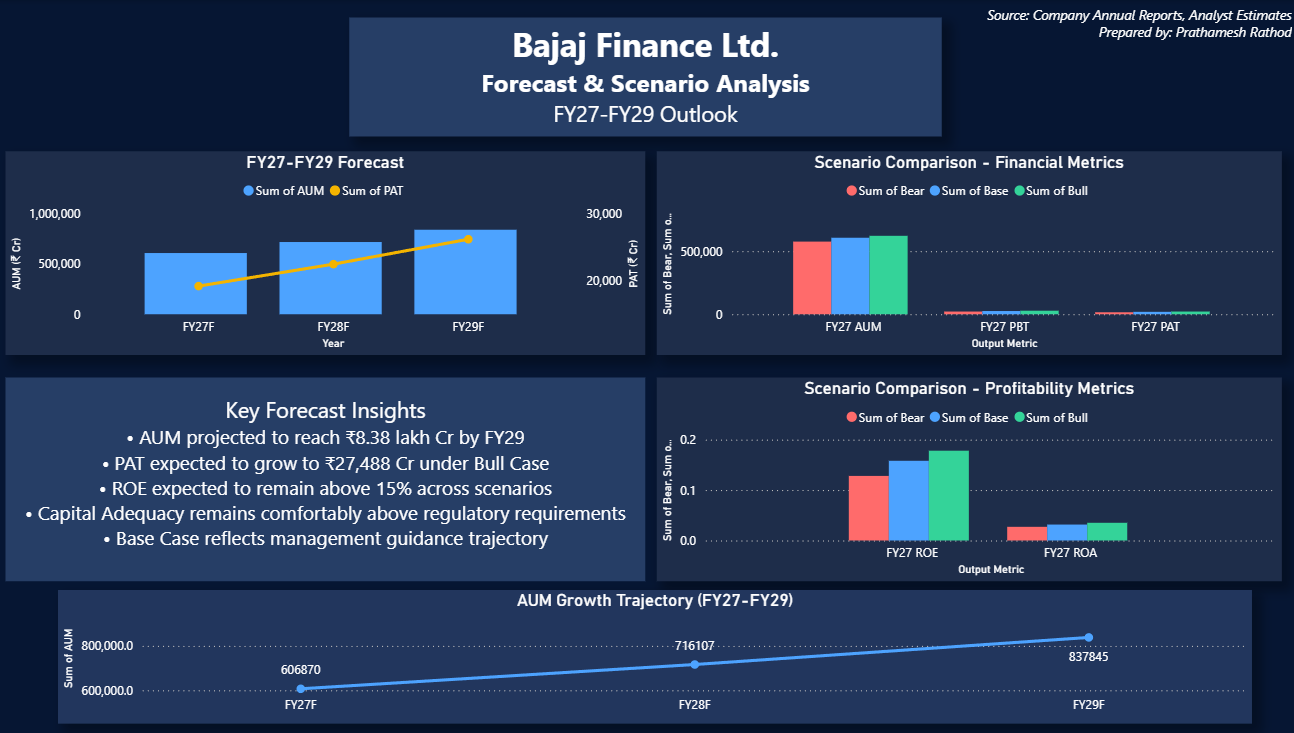

Layout of this report page (visuals, bound fields, positions):
{"tool":"powerbi","page":{"name":"Forecast & Scenarios","canvas":[1280,720],"ordinal":1},"visuals":[{"type":"textbox","box":[349.7,17.2,581.6,116.6],"z":0},{"type":"lineClusteredColumnComboChart","title":"FY27-FY29 Forecast","fields":{"Category":["Forecast.Year"],"Y":["Sum(Forecast.AUM)"],"Y2":["Sum(Forecast.PAT)"]},"box":[12.3,148.5,628.2,200],"z":1000},{"type":"clusteredColumnChart","title":"Scenario Comparison - Financial Metrics","fields":{"Category":["Scenario.Output Metric"],"Y":["Sum(Scenario.Bear)","Sum(Scenario.Base)","Sum(Scenario.Bull)"]},"box":[651.5,148.5,613.5,200],"z":2000},{"type":"clusteredColumnChart","title":"Scenario Comparison - Profitability Metrics","fields":{"Category":["Scenario.Output Metric"],"Y":["Sum(Scenario.Bear)","Sum(Scenario.Base)","Sum(Scenario.Bull)"]},"box":[651.5,370.6,613.5,200],"z":2001},{"type":"textbox","box":[12.3,370.6,628.2,200],"z":2002},{"type":"areaChart","title":"AUM Growth Trajectory (FY27-FY29)","fields":{"Category":["Forecast.Year"],"Y":["Sum(Forecast.AUM)"]},"box":[63.8,579.1,1171.8,131.3],"z":2003},{"type":"textbox","box":[942.3,0,337.4,52.8],"z":2004}]}

Visuals, with their boxes in screenshot pixels (x1, y1, x2, y2), scaled from the page's 1280x720 canvas onto the 1294x733 screenshot:
textbox: 354/18/941/136
"FY27-FY29 Forecast" lineClusteredColumnComboChart: 12/151/648/355
"Scenario Comparison - Financial Metrics" clusteredColumnChart: 659/151/1279/355
"Scenario Comparison - Profitability Metrics" clusteredColumnChart: 659/377/1279/581
textbox: 12/377/648/581
"AUM Growth Trajectory (FY27-FY29)" areaChart: 64/590/1249/723
textbox: 953/0/1293/54
